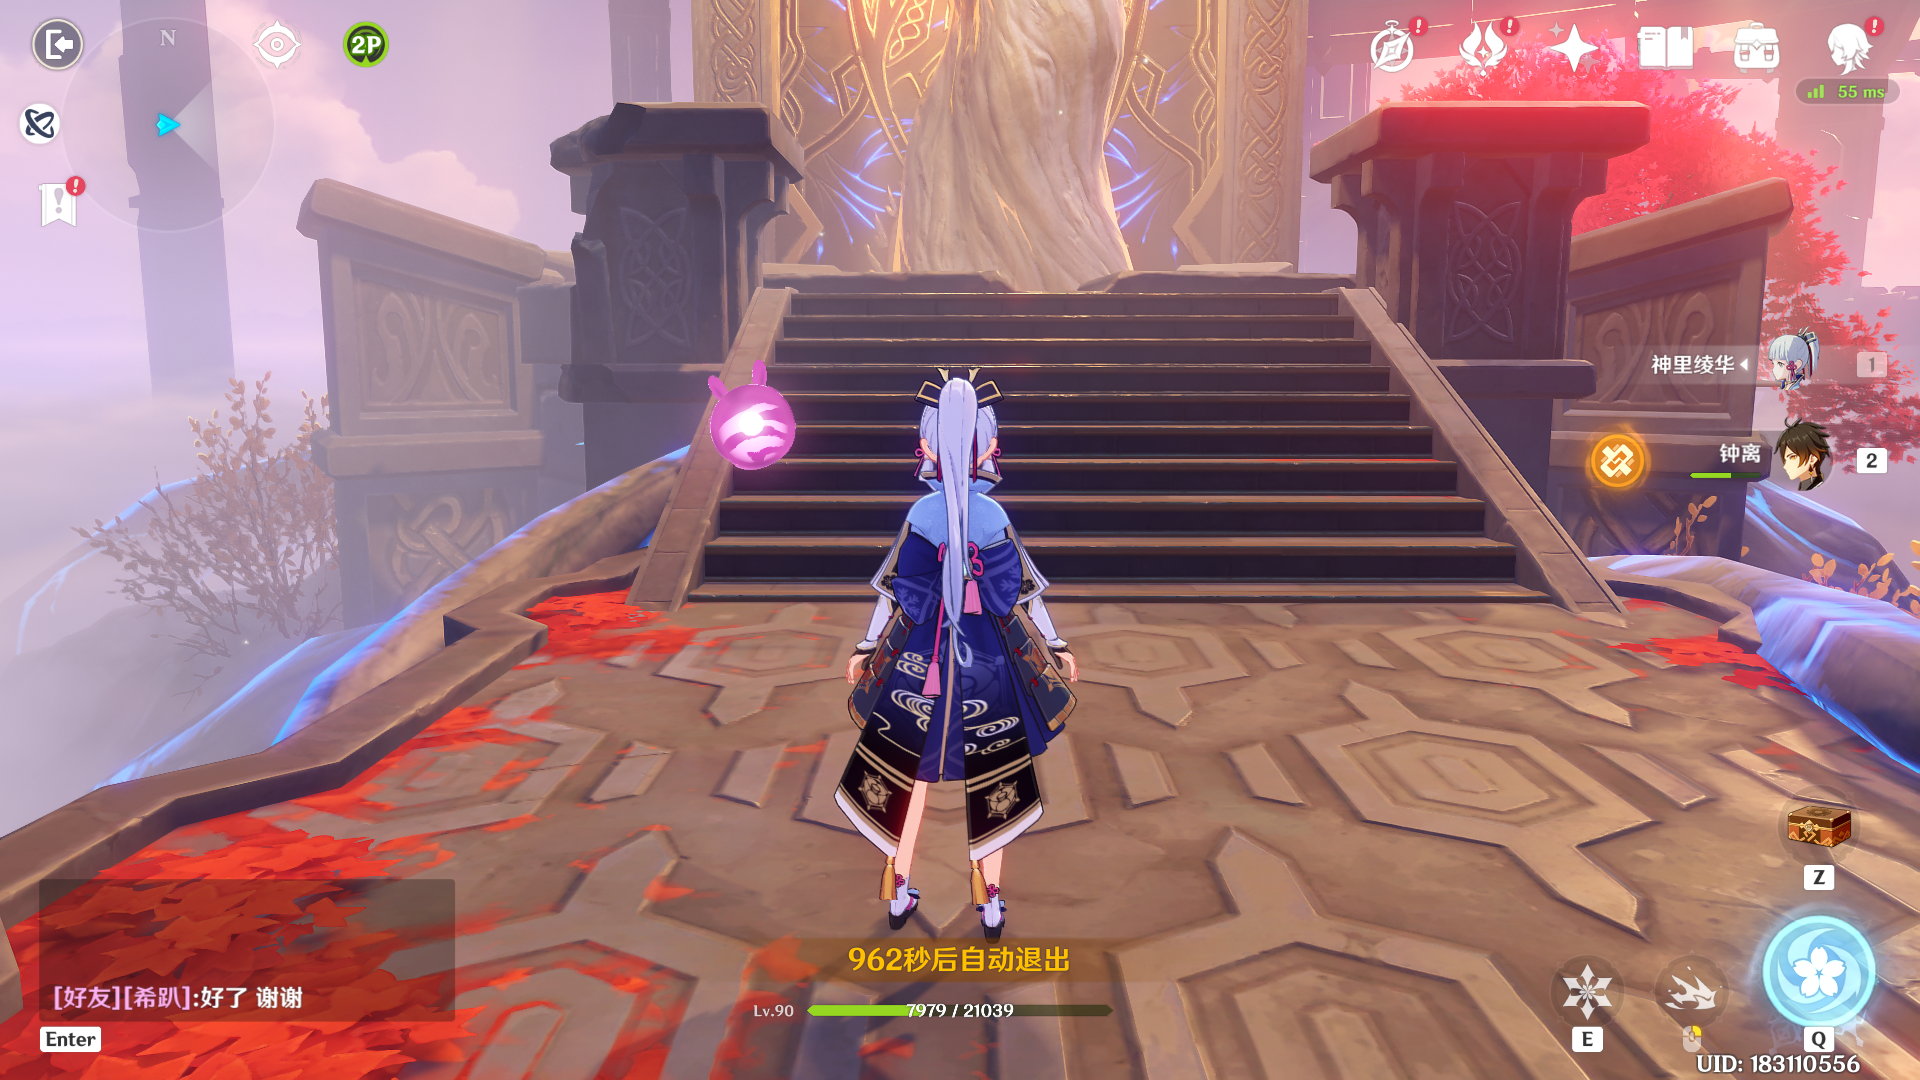character: (808, 344, 1112, 948)
